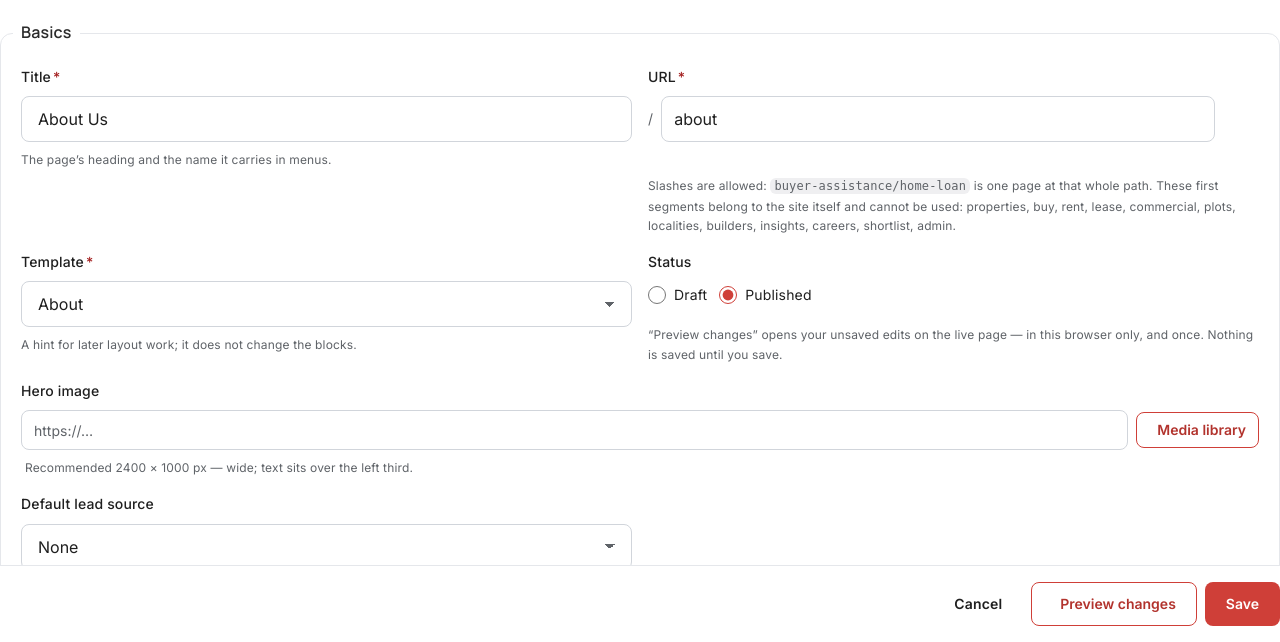
Test: PageFormPage › a save the rules refuse (prompt 51) › says so instead of doing nothing, and writes nothing
Replace the text in the field showing "About Us" with "About Squares N Acres". click: {"x": 326, "y": 119}
box: left=21, top=96, right=632, bottom=142
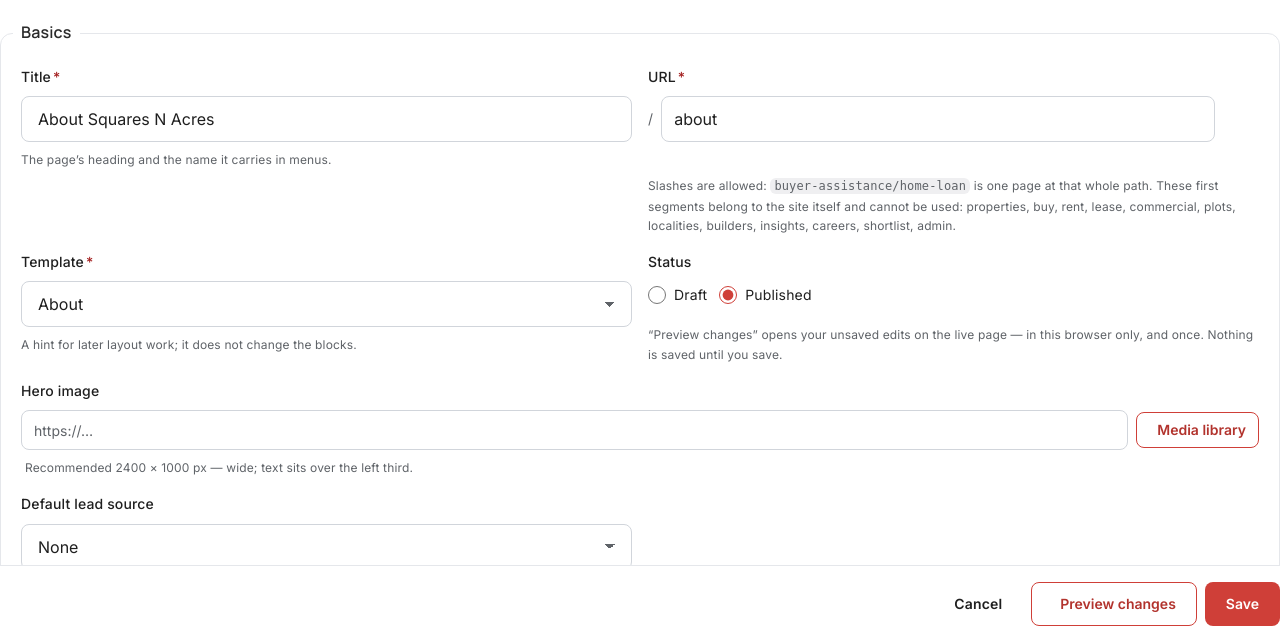
Click the 2nd button "Save". click: {"x": 1242, "y": 604}
box: left=1205, top=582, right=1279, bottom=626
(page scrolled)
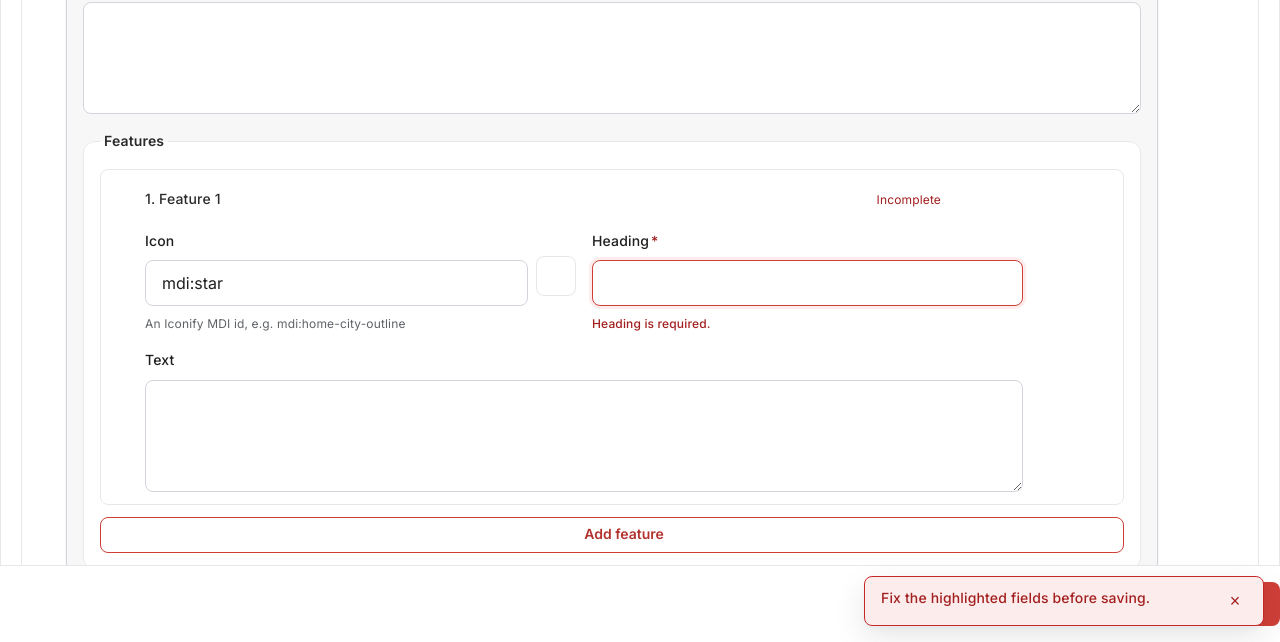
Now the text "Fix the highlighted fields before saving." is shown, box left=881, top=589, right=1150, bottom=606
